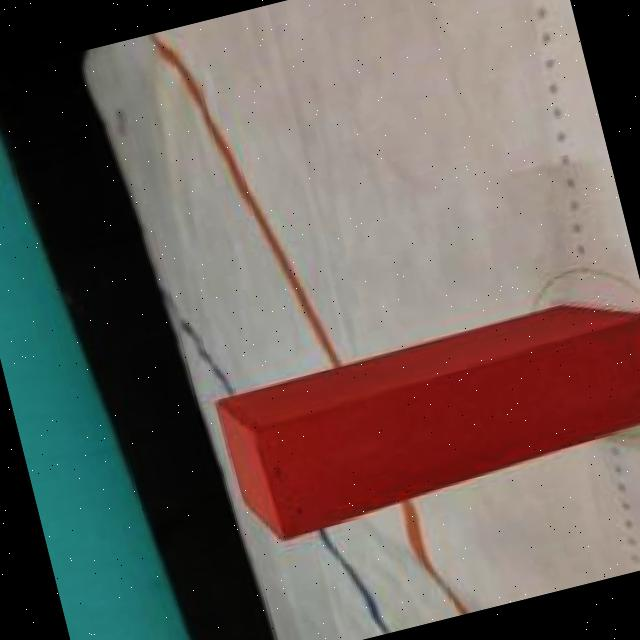redbox: (209, 283, 640, 546)
